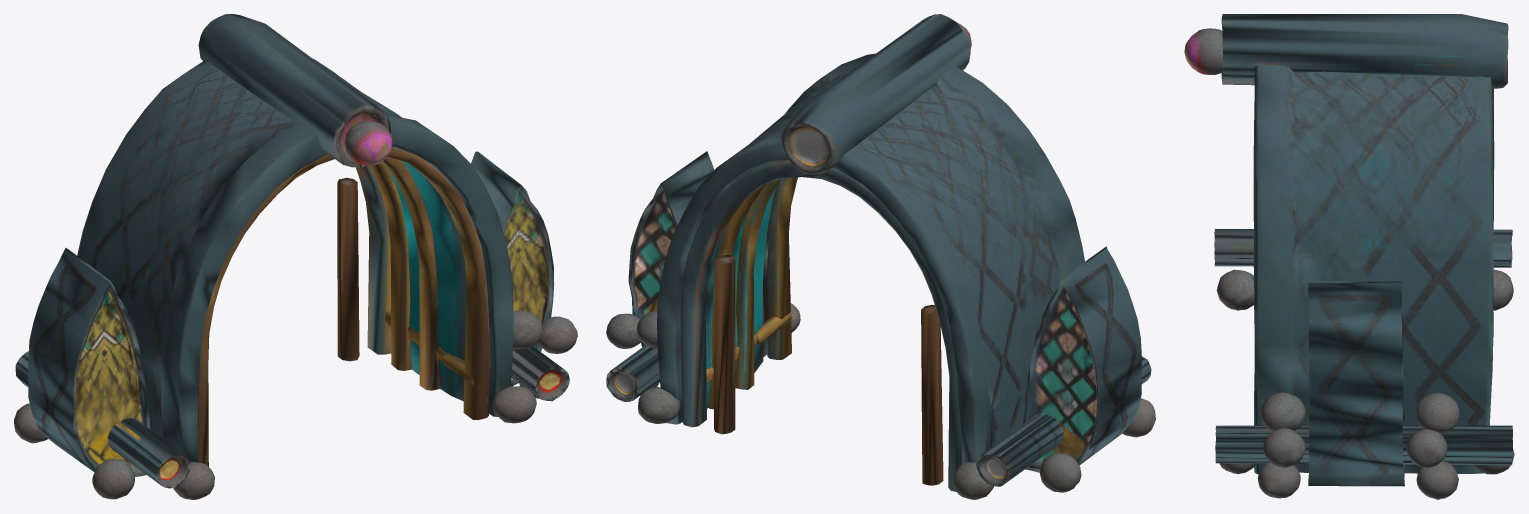
File: RainbowGateway.fbx
The picture shows the model from 3 angles, left to right: view 1: azimuth 30°, elevation 25°; view 2: azimuth 150°, elevation 25°; view 3: azimuth 270°, elevation 25°; orthographic projection. The views are drawn at different scales.
Parts seen in each view (by area): view 1: Mesh_0; view 2: Mesh_0; view 3: Mesh_0.
Part boxes in pixels (box(x1,y1,x2,y2)): Mesh_0: box(14, 14, 577, 499); Mesh_0: box(606, 14, 1155, 499); Mesh_0: box(1184, 14, 1514, 499).
Size of the model in its own units: 100 by 71.52 by 56.68.
1 material, 1 textured.
